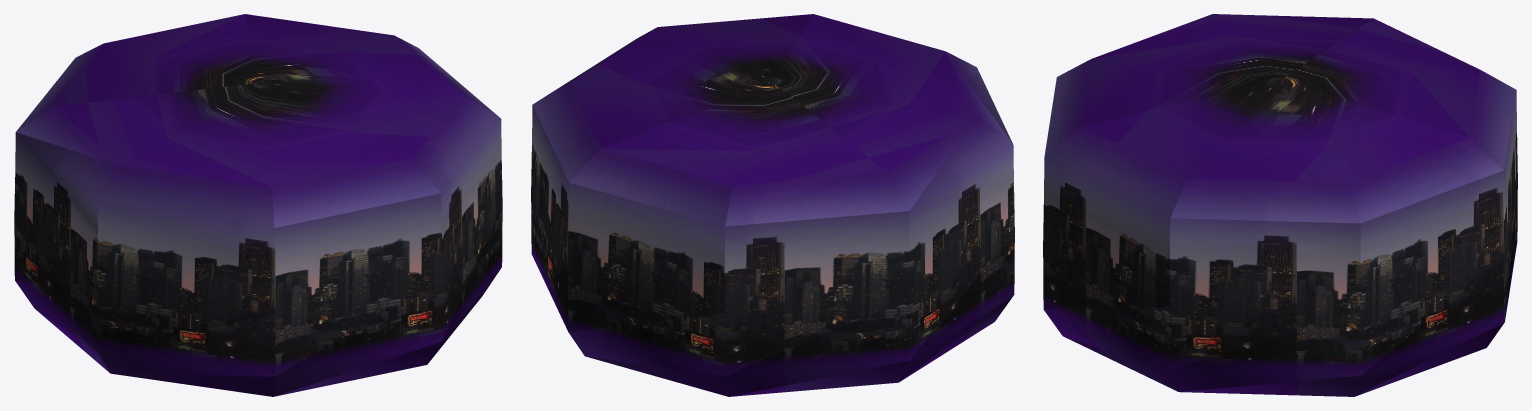
The model's file is STG0100_D_20.fbx.
3 renders of one model, left to right at view 1: azimuth 30°, elevation 25°; view 2: azimuth 150°, elevation 25°; view 3: azimuth 270°, elevation 25°, orthographic. The views are drawn at different scales.
Visible parts, largest first — view 1: STG0100_D_20_s0100_nn026; view 2: STG0100_D_20_s0100_nn026; view 3: STG0100_D_20_s0100_nn026.
Boxes of the visible parts, <box> form: STG0100_D_20_s0100_nn026: <box>14,14,502,396</box>; STG0100_D_20_s0100_nn026: <box>531,14,1014,396</box>; STG0100_D_20_s0100_nn026: <box>1043,14,1517,396</box>.
Size of the model in its own units: 20086 by 11278 by 20086.
